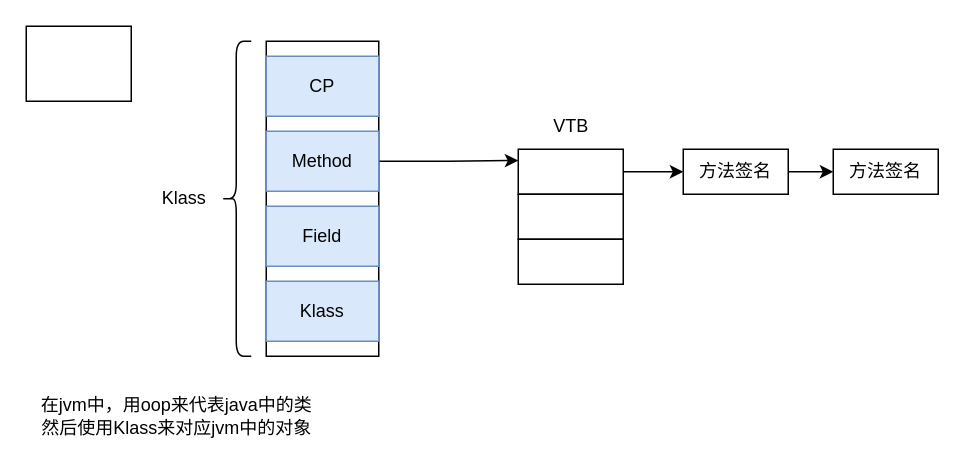
Some shapes in this 965 by 473 pixel diagram are drawn without their labels. Here are the shapes that lost their labels. From the top down, the box of each, then its label:
(25, 25, 131, 101): OOP
(517, 148, 623, 194): 继承的类
